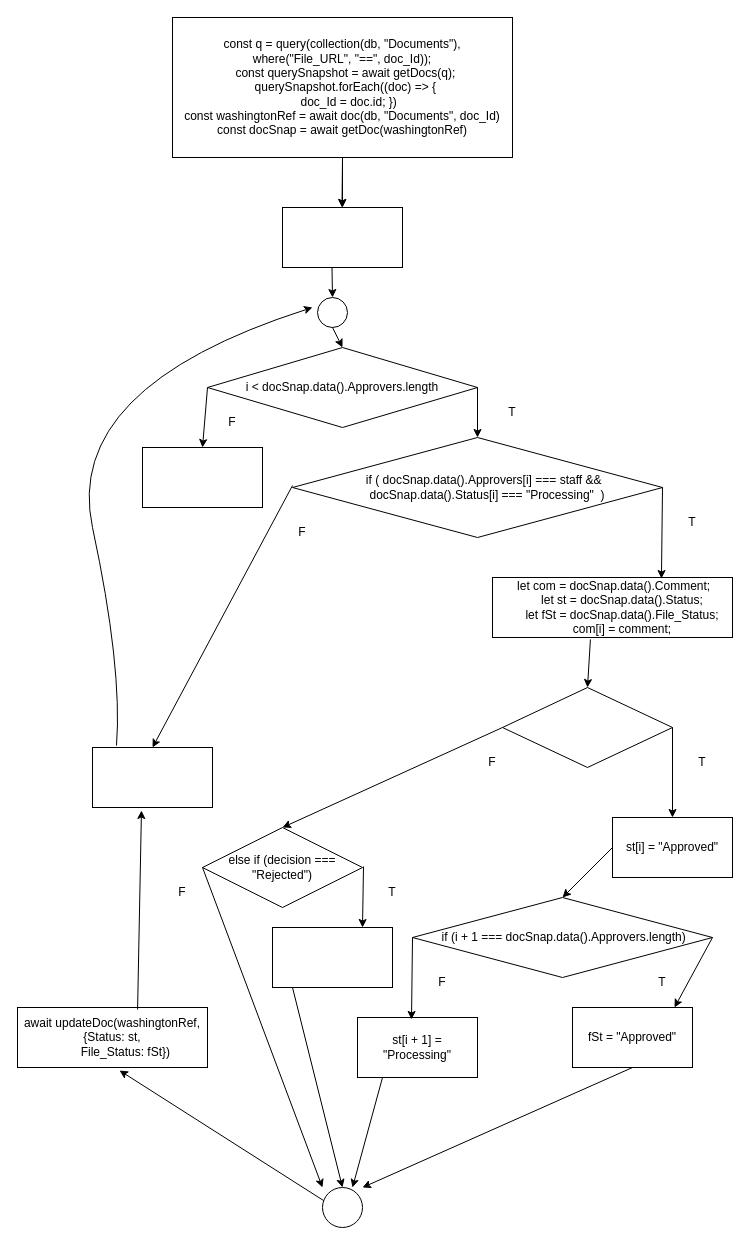
The diagram is 750 pixels wide and 1245 high, and some of its shapes have lost their labels. Here are the shapes that lost their labels. From the top down, the box of each, then its label:
(282, 206, 402, 268): let i=0
(142, 446, 262, 508): alert("Finished!!!")
(502, 686, 672, 768): if (decision === "Approved")
(92, 746, 212, 808): i=i+1
(272, 926, 392, 988): st[i] = "Rejected"; fSt = "Rejected"
